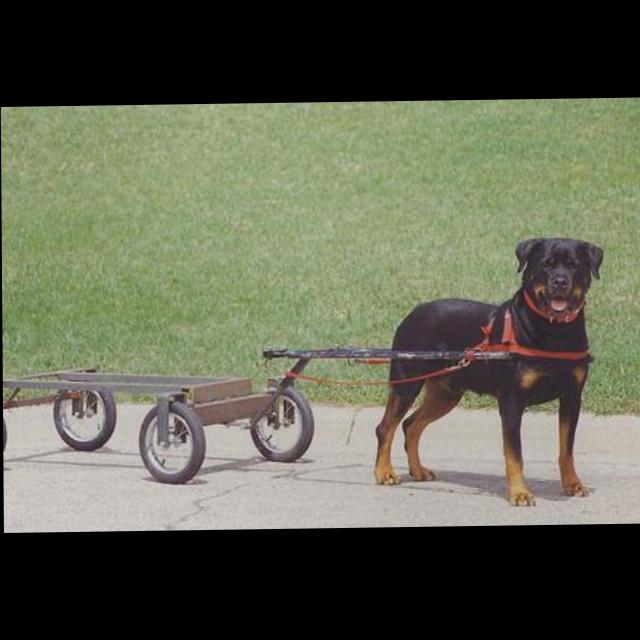rottweiler: (371, 239, 605, 512)
